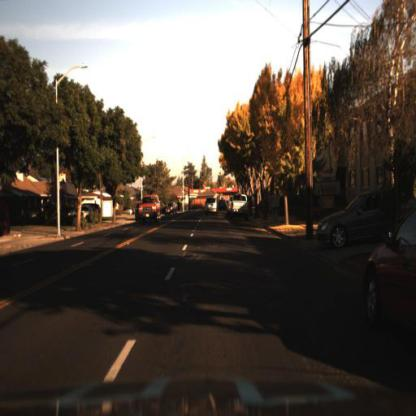car: (364, 201, 416, 339), (313, 191, 401, 251), (138, 194, 164, 226), (135, 194, 163, 222), (230, 194, 251, 222), (74, 205, 96, 223), (205, 198, 221, 219), (165, 198, 181, 218)
